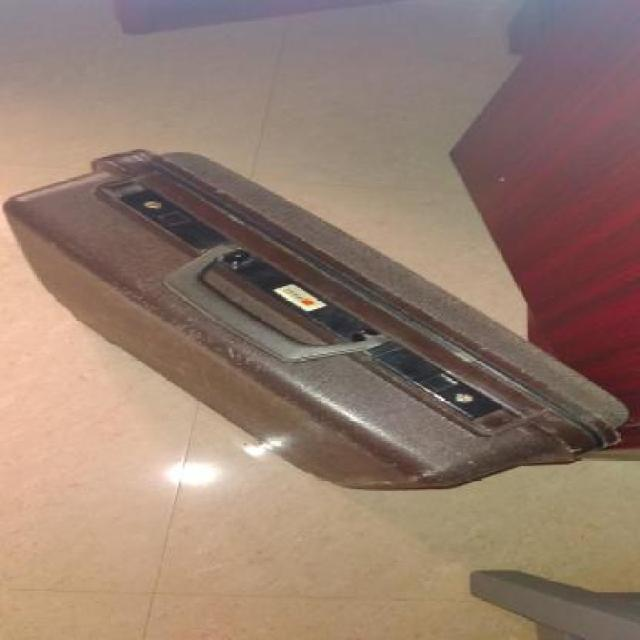backpack: (0, 143, 629, 495)
